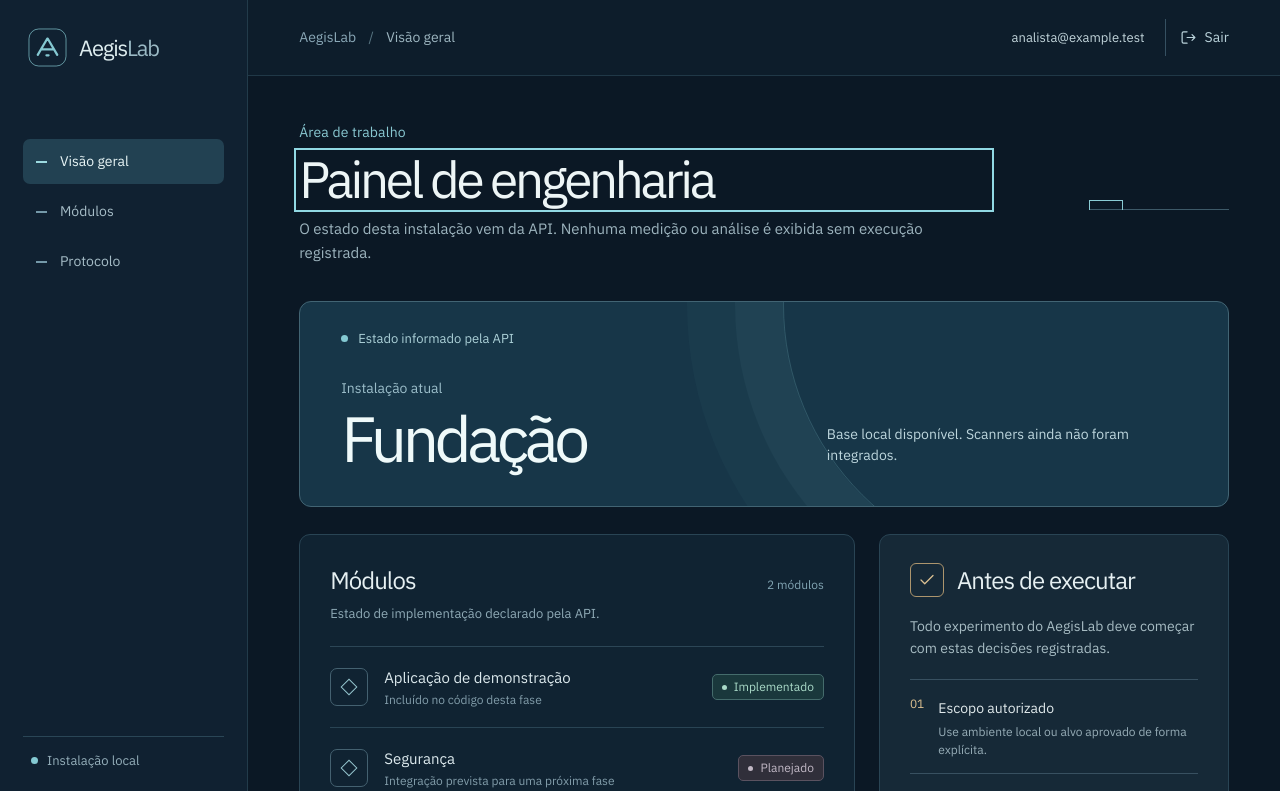
Scenario: AegisLab interface › handles logout HTTP 204 without losing the current view on failure
The width and height of the screenshot is (1280, 791).
Check: the heading "Painel de engenharia" is shown, box [299,146,714,212]
Click the button with aria-label "Sair da conta": coordinates (1197, 38) [1165,19,1229,56]
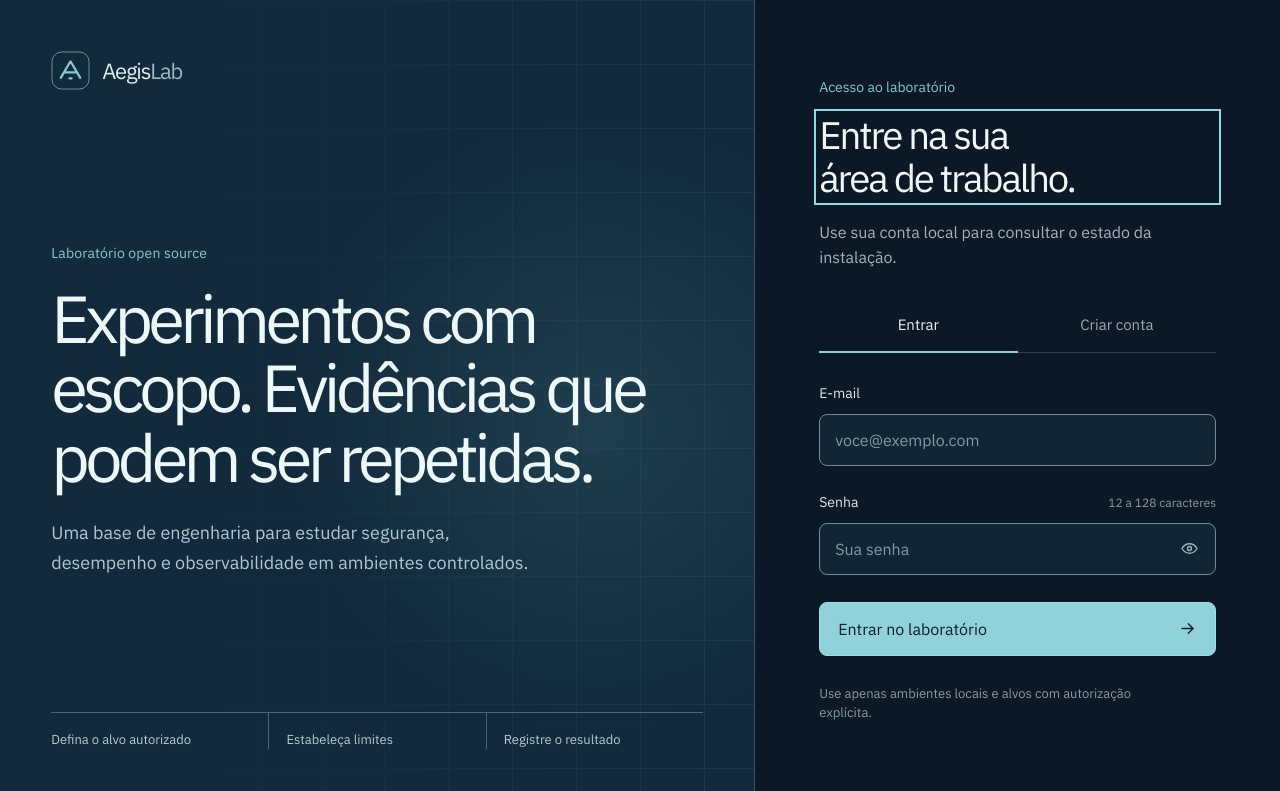
Check: the heading "Entre na sua área de trabalho." is shown, box [819,110,1075,204]
